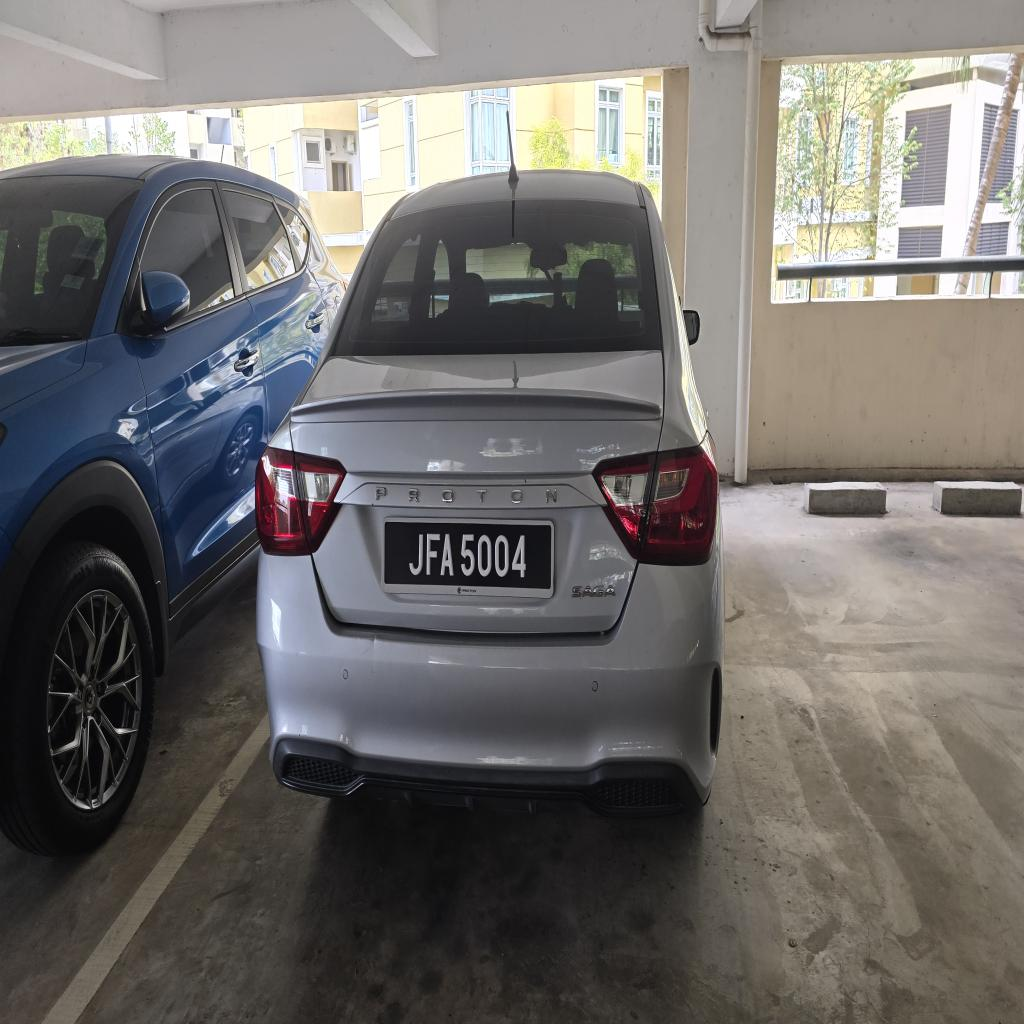car: (258, 171, 722, 813)
car plate: (383, 518, 553, 597)
